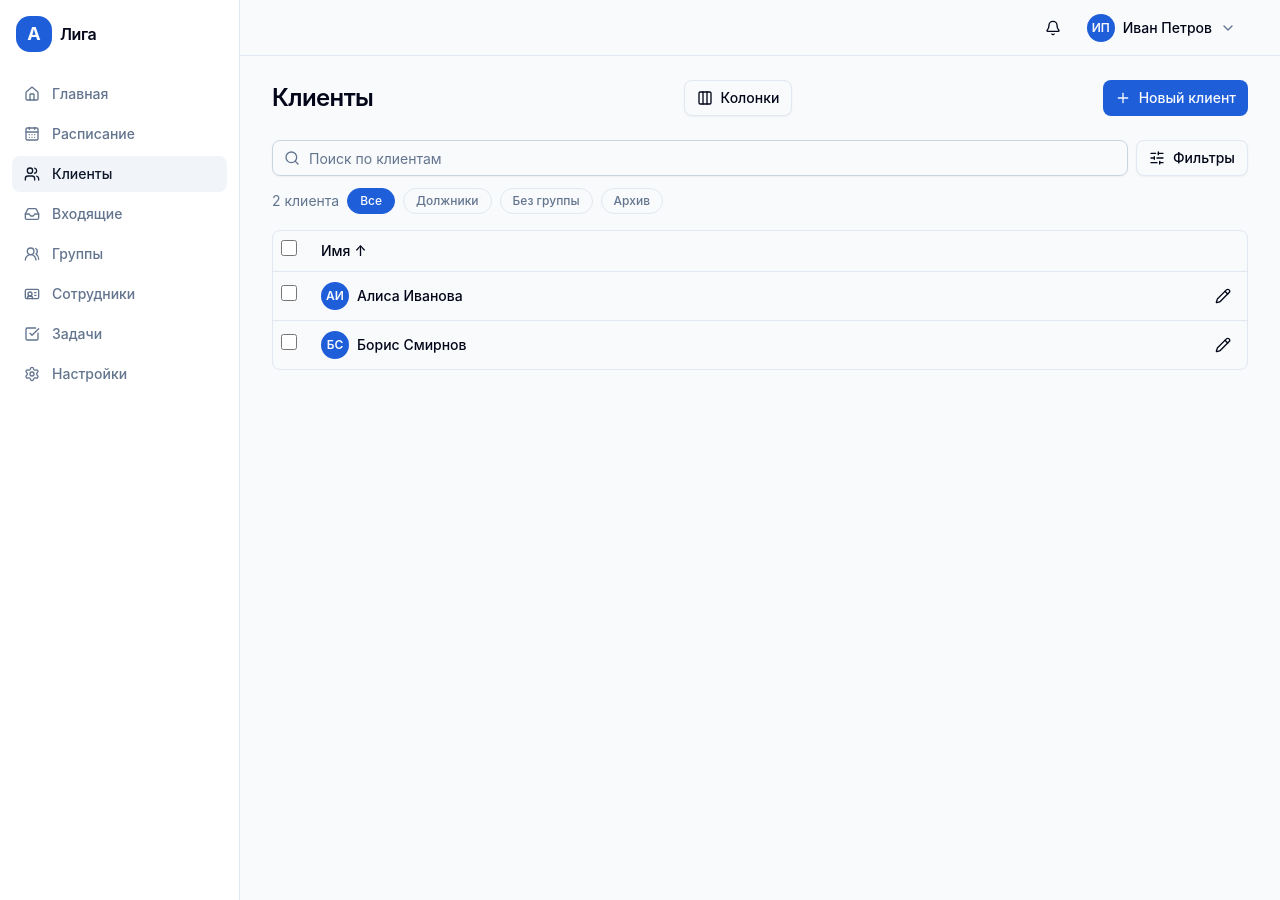
Test: список клиентов › массовое архивирование отправляет выбранных клиентов и снимает выбор
Check: the table is shown, box [273,231,1247,368]
Click the checkbox named "Выбрать «Алиса Иванова»".
click(289, 293)  # box [281,285,297,301]
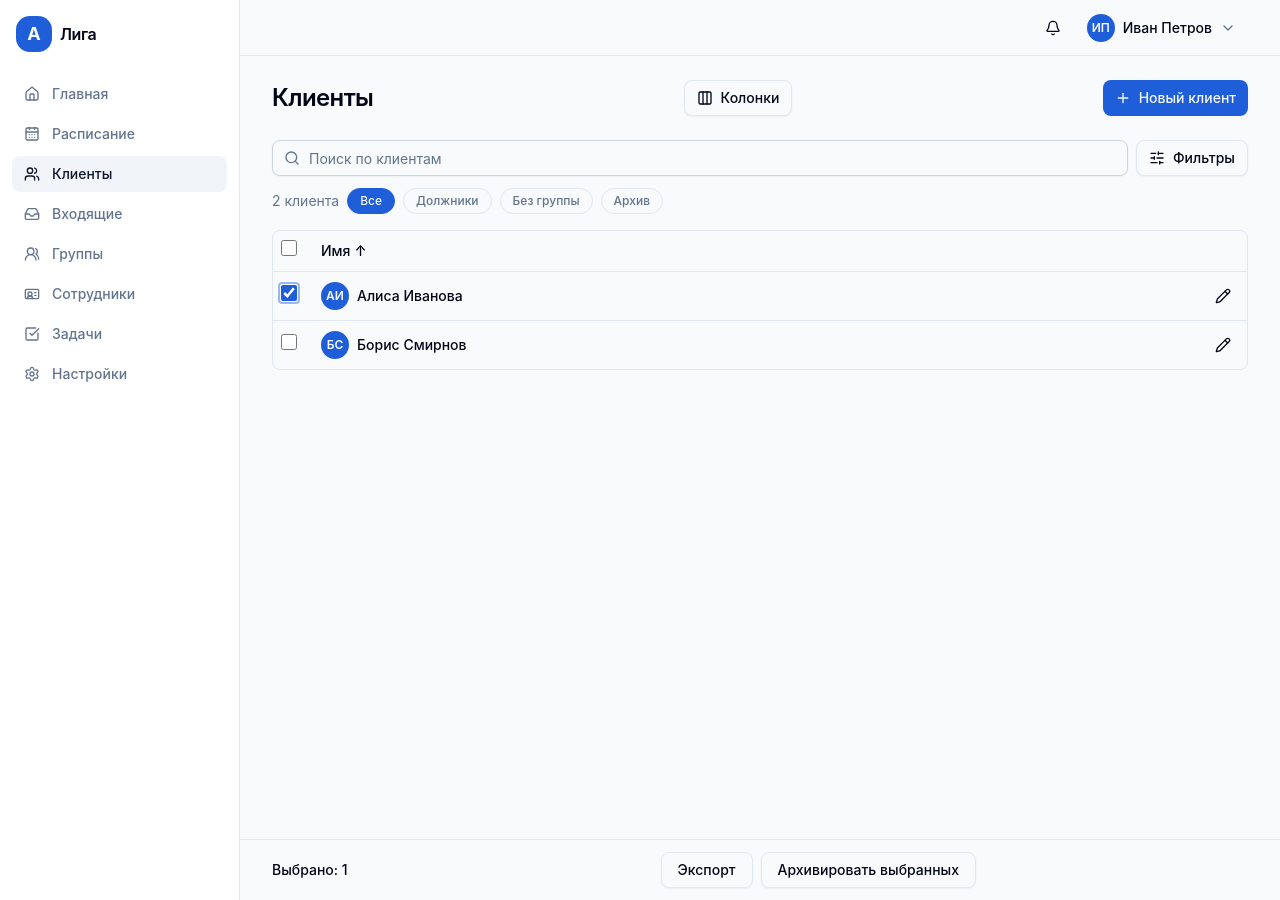
Check: the text "Выбрано: 1" is shown, box [272,860,348,880]
Click the button "Архивировать выбранных".
click(868, 870)  # box [760,852,976,888]
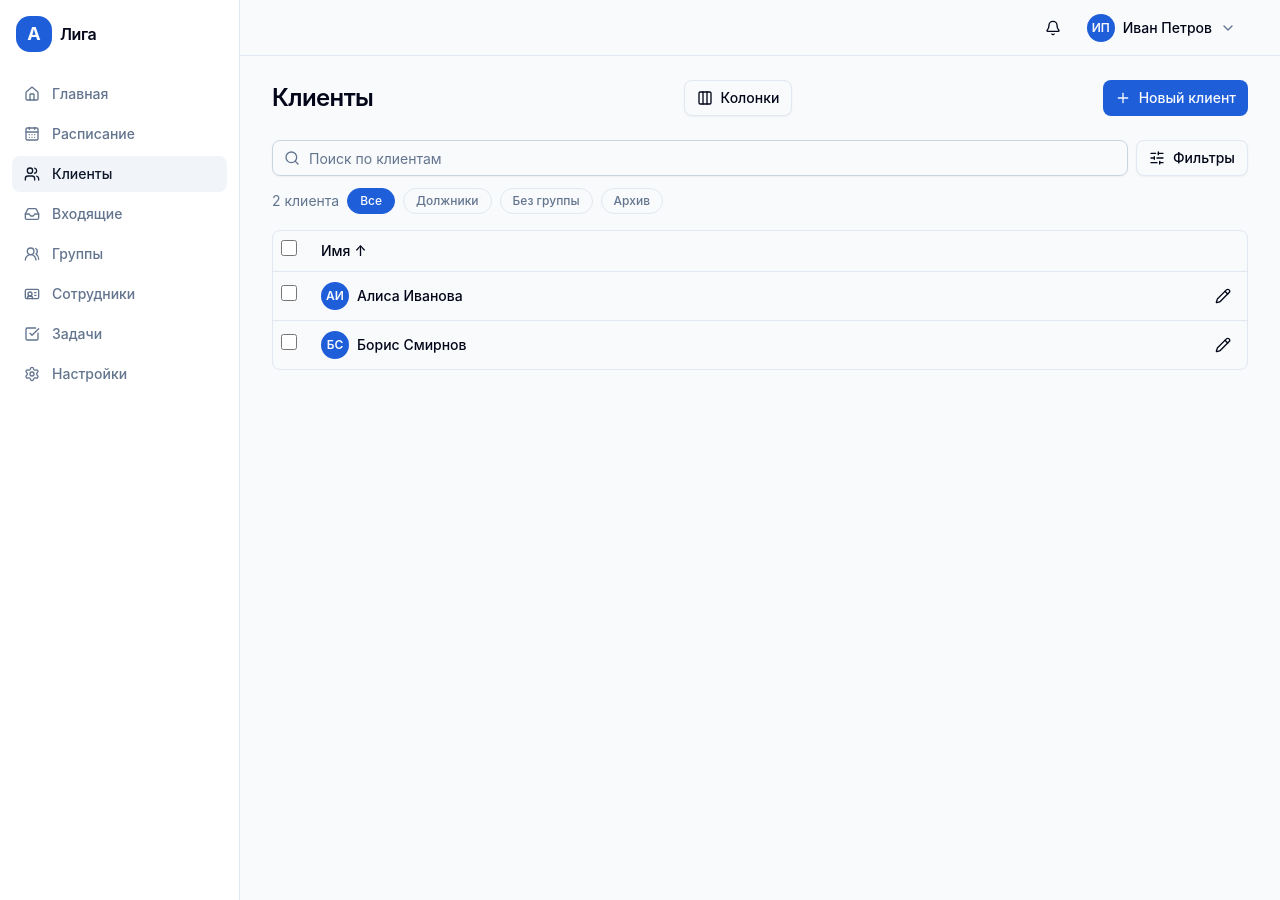
Check: the link "Алиса Иванова" is shown, box [357,286,463,306]
Check: the text "Выбрано" is gone
